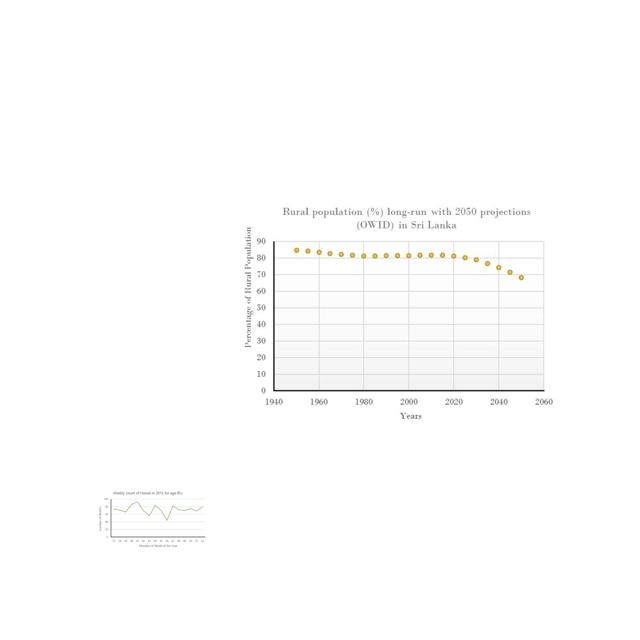Graph: (240, 200, 566, 426), (98, 490, 207, 549)
